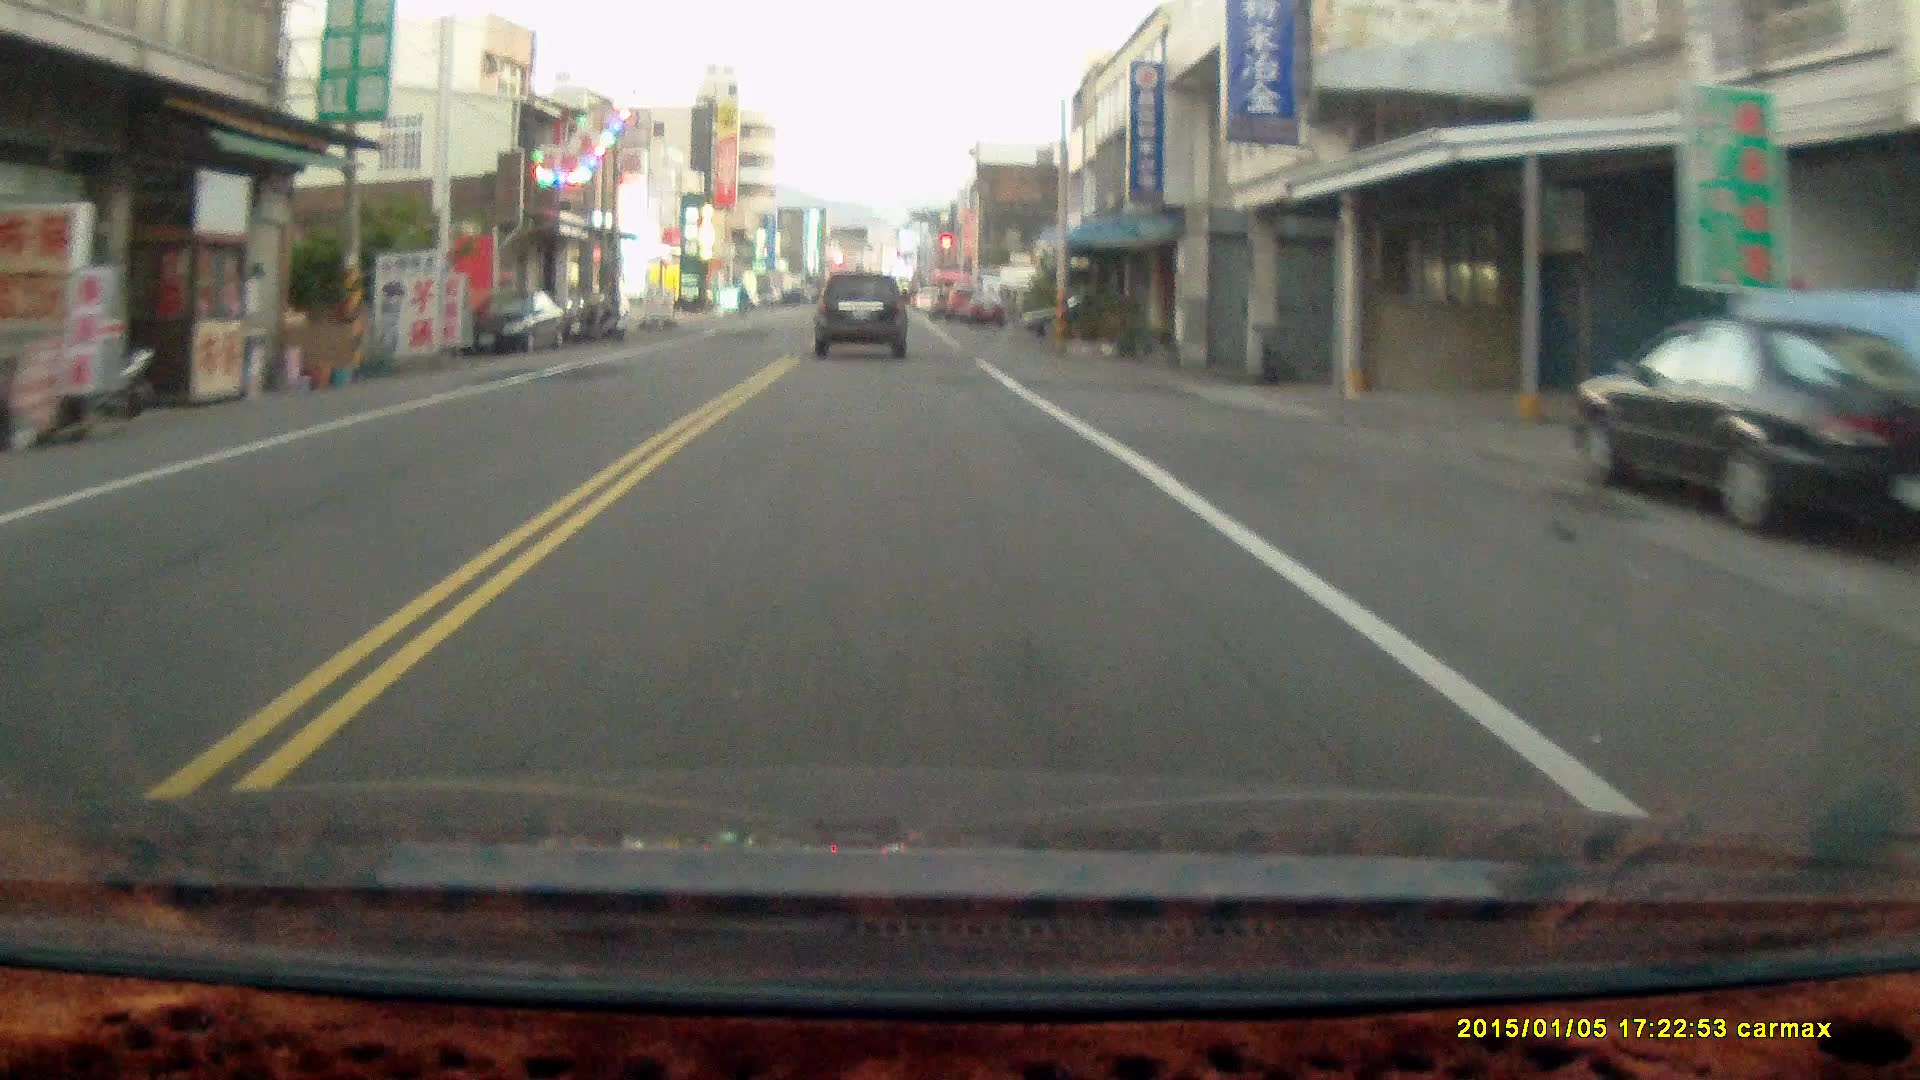vehicle: (1571, 320, 1920, 546), (814, 274, 910, 363), (458, 293, 564, 357)
